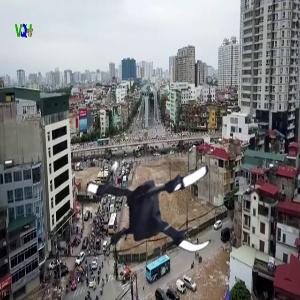drone: (72, 133, 223, 284)
